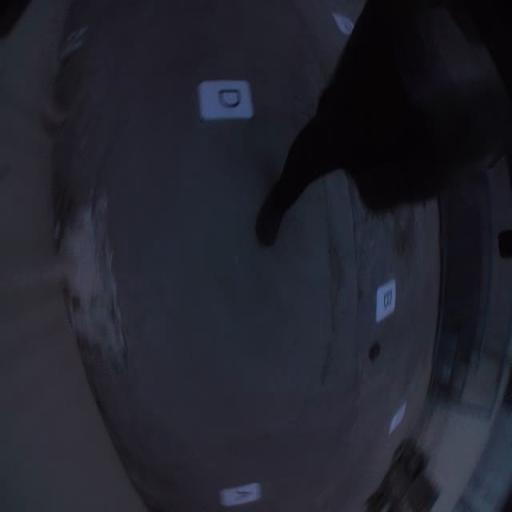A: (220, 482, 262, 508)
B: (375, 279, 396, 322)
D: (198, 80, 254, 122)
